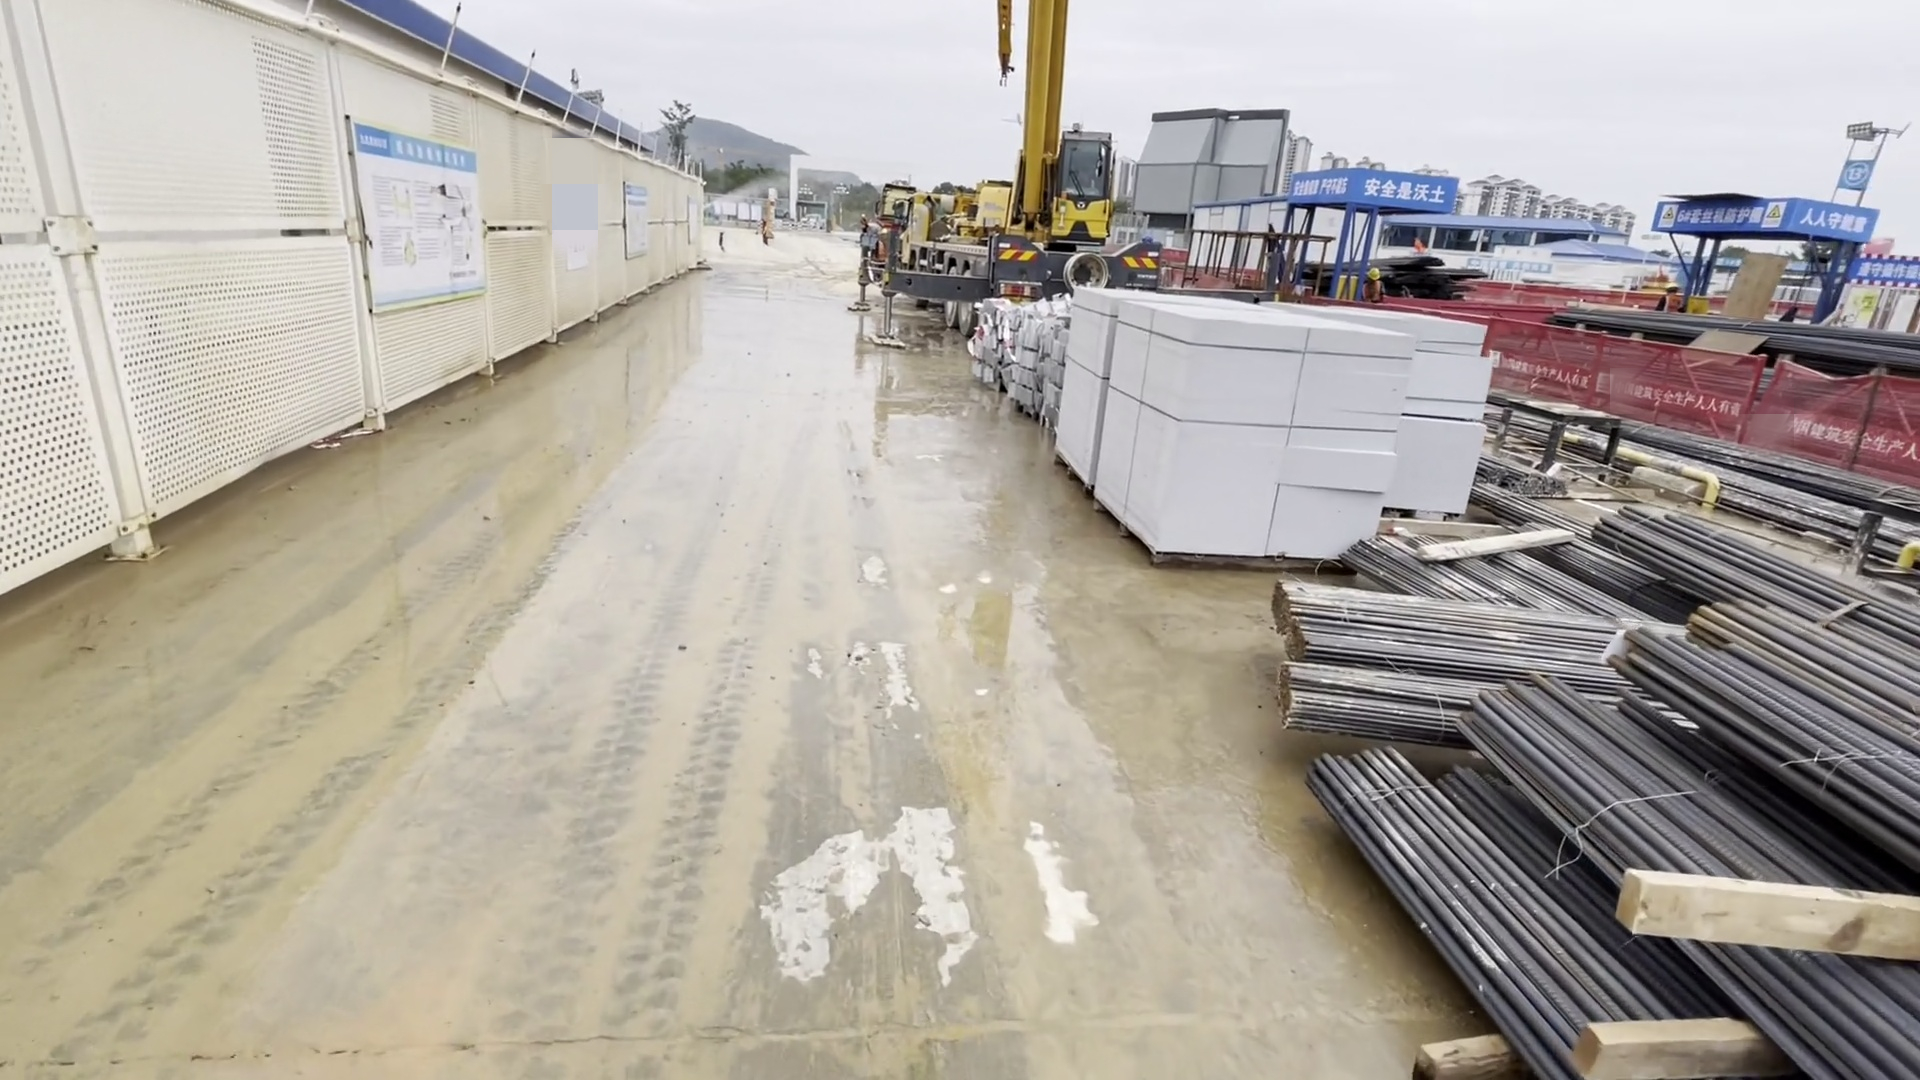brick: (1052, 281, 1506, 583)
slogan: (345, 123, 487, 314), (1644, 185, 1878, 251), (1278, 170, 1465, 218)
